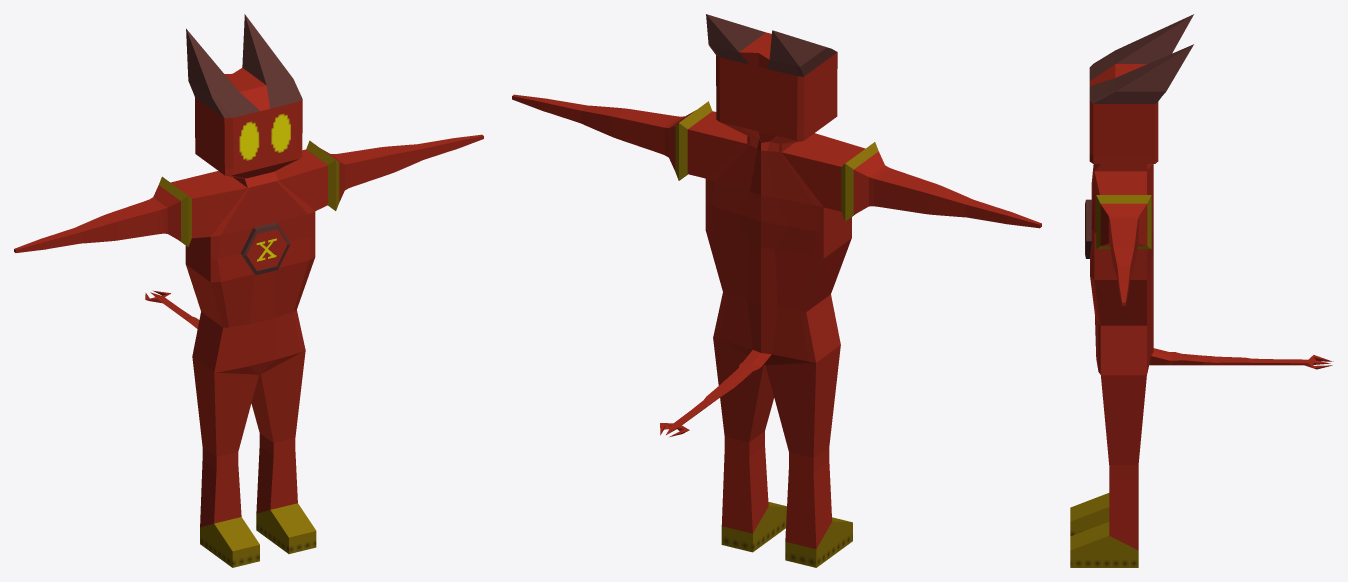
Rendered from Ten_Player_0.fbx.
3 views of the same model, side by side, from view 1: azimuth 30°, elevation 25°; view 2: azimuth 150°, elevation 25°; view 3: azimuth 270°, elevation 25° (orthographic). The views are drawn at different scales.
Parts seen in each view (by area): view 1: Ten; view 2: Ten; view 3: Ten.
Boxes of the visible parts, x1=… form: Ten: x1=14, y1=14, x2=483, y2=567; Ten: x1=512, y1=14, x2=1041, y2=567; Ten: x1=1070, y1=14, x2=1333, y2=567.
Bounding box in the file's own units: 246 × 248 × 114.
1 material, 1 textured.
